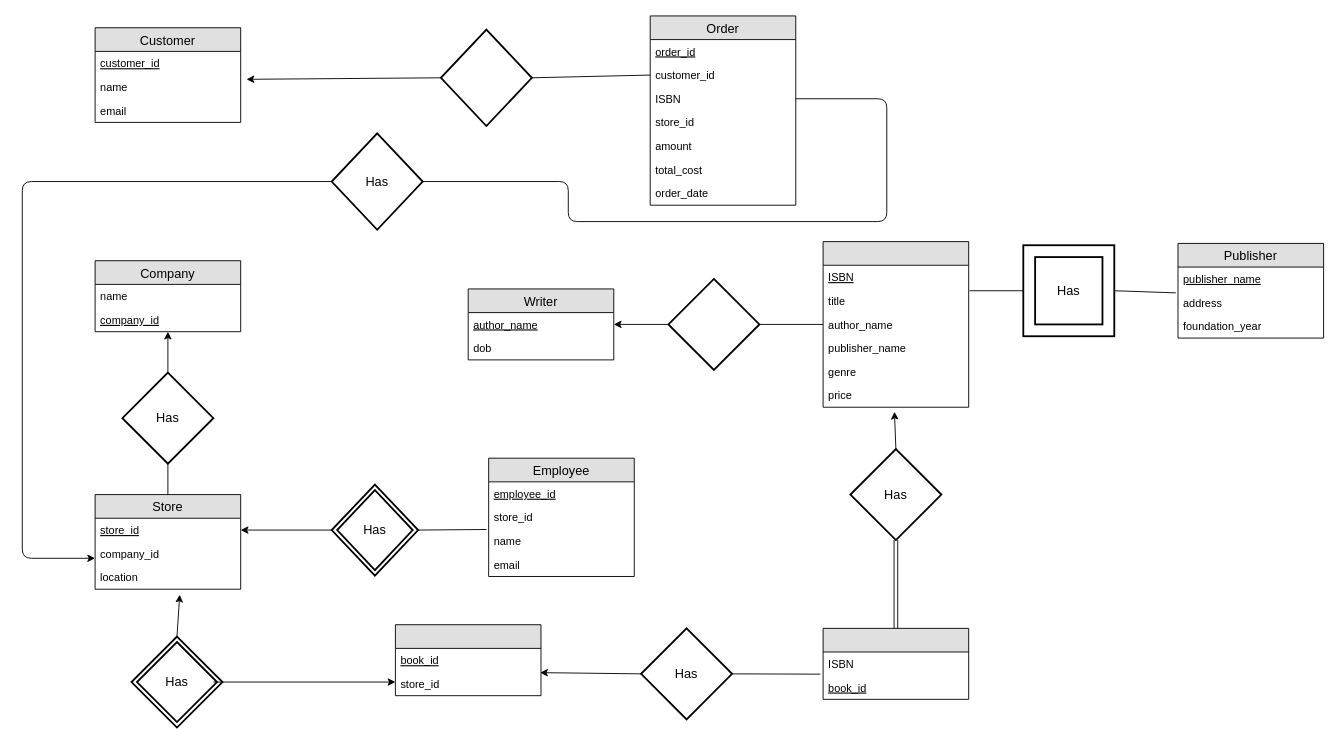
The diagram is 1340 pixels wide and 744 high, and some of its shapes have lost their labels. The shapes that lost their labels are listed below. From the top down, each one's box as (x1, y1, x2, y2) in pixels, then its label:
(440, 28, 532, 126): Makes
(667, 278, 760, 370): Writes
(822, 241, 969, 407): Book
(394, 624, 541, 696): Inventory
(822, 627, 969, 699): Book Copy
